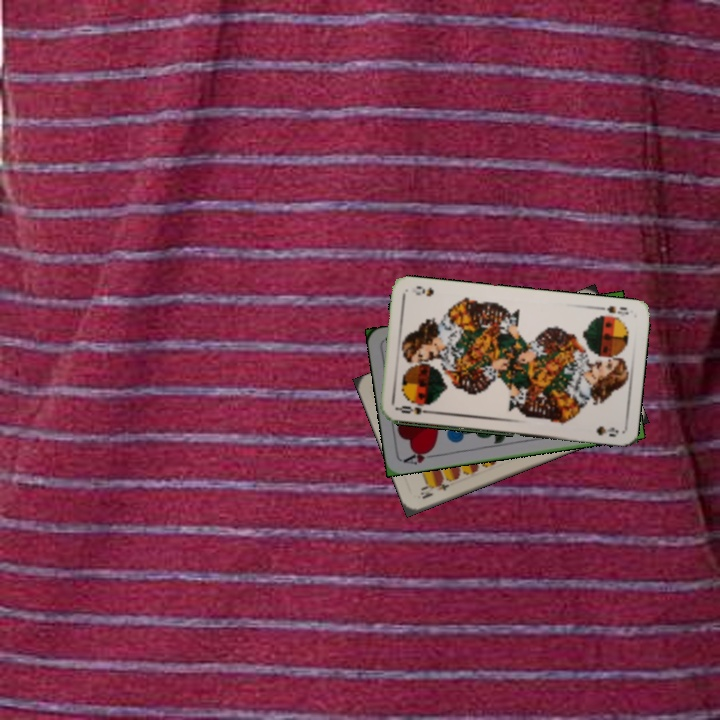E10: (416, 477, 452, 502)
HA: (400, 445, 440, 467)
SO: (394, 401, 434, 417), (594, 302, 631, 317)
